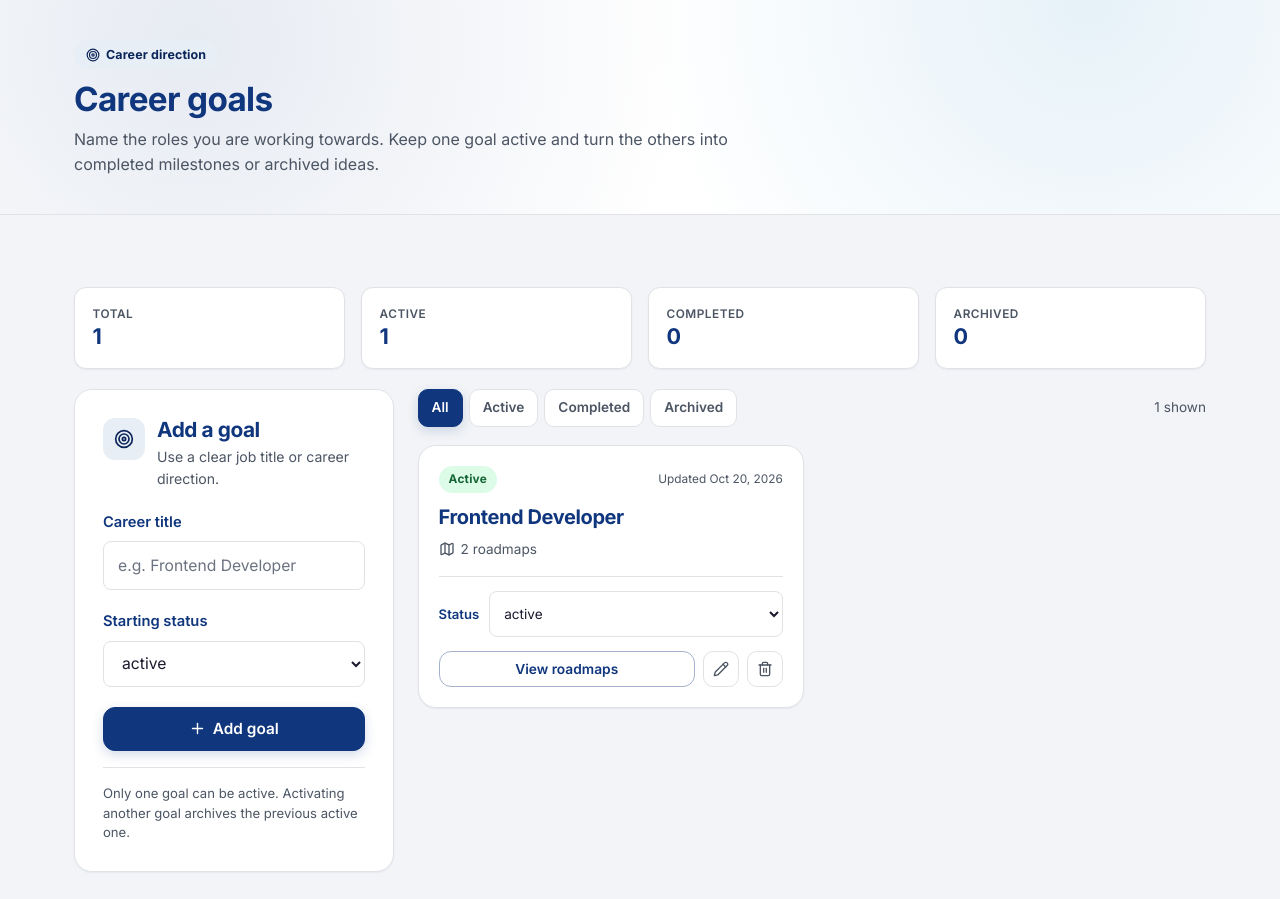
Test: updates the status of a career goal
Select "completed" in the dropdown labelled "Status" at (636, 614), box [489, 591, 783, 637]
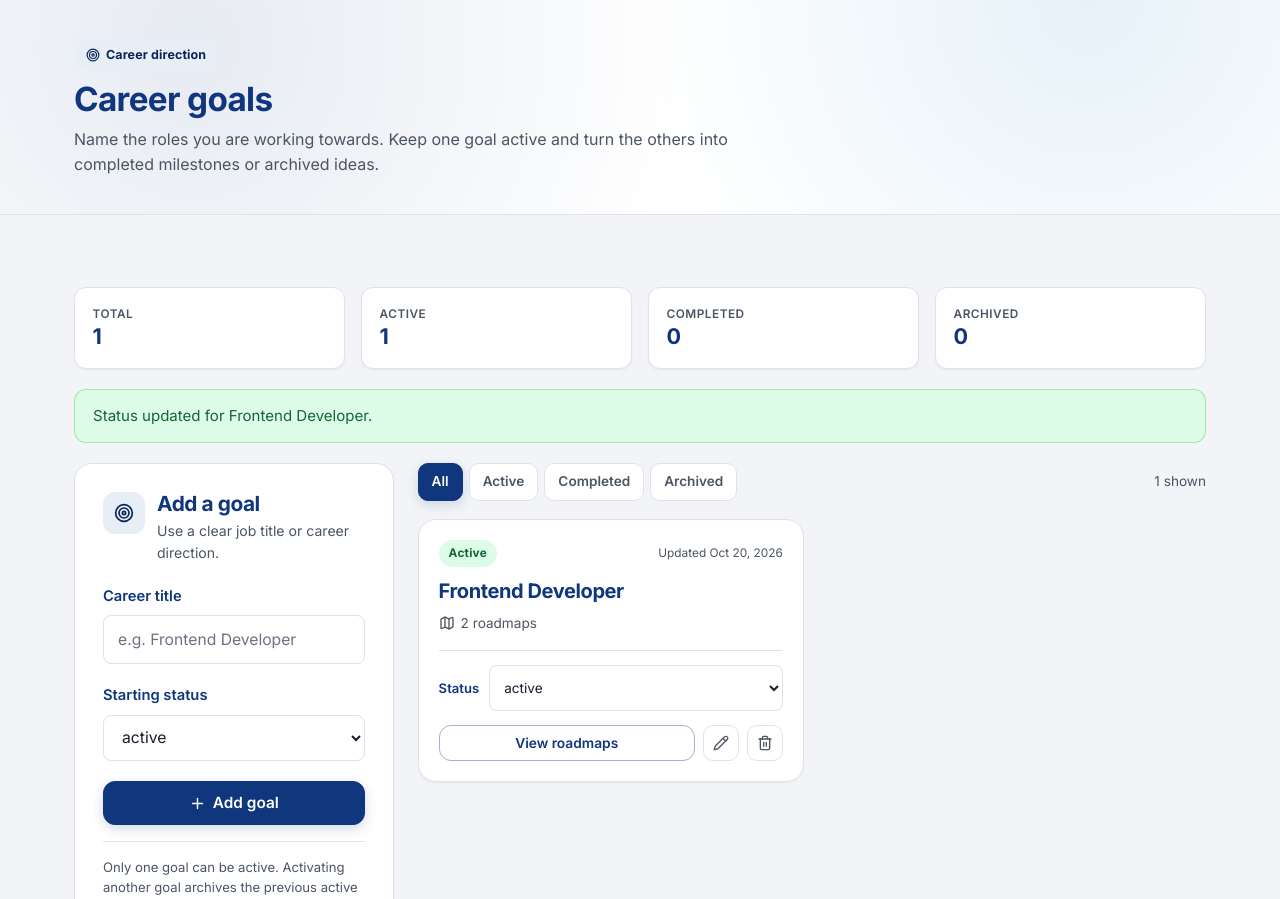
Check: the text "Status updated for Frontend Developer." is shown, box [74, 389, 1206, 443]
